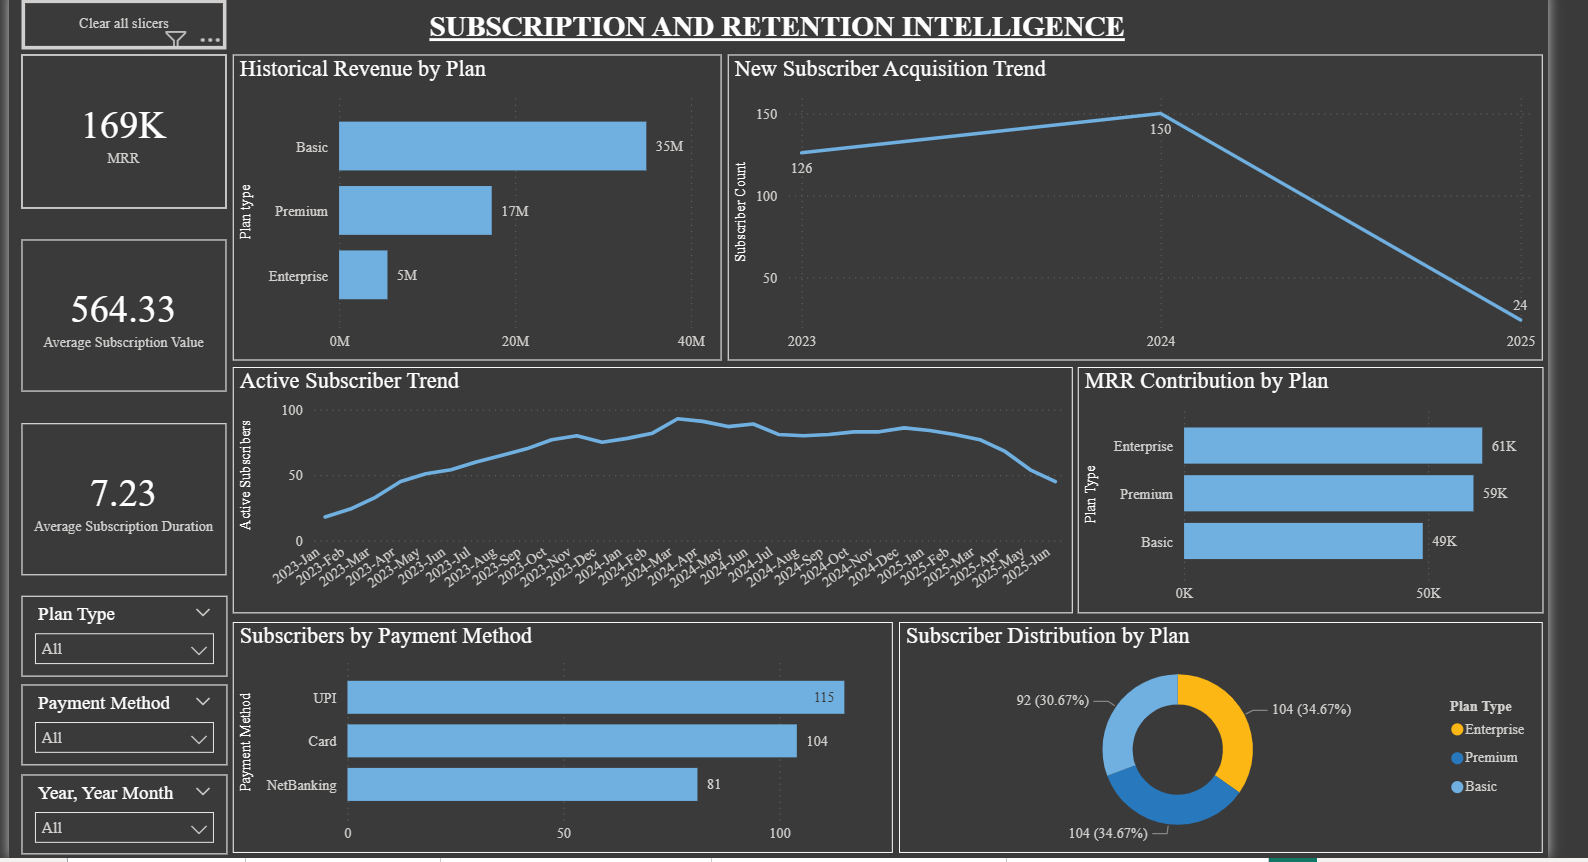

The dashboard page shown, as its layout file describes it:
{"tool":"powerbi","page":{"name":"Subscription and Retention Analysis","canvas":[1280,720],"ordinal":3},"visuals":[{"type":"textbox","box":[10.4,10.4,1256.5,42.6],"z":0},{"type":"card","fields":{"Values":["KPI Measures.MRR"]},"box":[10.4,52,170.4,127.8],"z":1000},{"type":"card","fields":{"Values":["Avg(subscriptions.monthly_fee)"]},"box":[10.4,205.8,170.4,126.8],"z":2000},{"type":"barChart","title":"Historical Revenue by Plan","fields":{"Category":["customers.plan_type"],"Y":["KPI Measures.Total Revenue"]},"box":[185.9,52.4,406.8,254.6],"z":3000},{"type":"card","fields":{"Values":["subscriptions.Subscription Duration"]},"box":[10.4,358.5,170.4,126.8],"z":4000},{"type":"lineChart","title":"Active Subscriber Trend","fields":{"Category":["Dim_Date.Year Month"],"Y":["subscriptions.Active Subscribers Monthly"]},"box":[185.9,312,698.8,204.6],"z":5000},{"type":"lineChart","title":"New Subscriber Acquisition Trend","fields":{"Category":["subscriptions.start_date.Variation.Date Hierarchy.Year","subscriptions.start_date.Variation.Date Hierarchy.Quarter","subscriptions.start_date.Variation.Date Hierarchy.Month","subscriptions.start_date.Variation.Date Hierarchy.Day"],"Y":["Count(subscriptions.sub_id)"]},"box":[597.7,52.4,677.6,254.6],"z":6000},{"type":"barChart","title":"MRR Contribution by Plan","fields":{"Category":["subscriptions.plan_name"],"Y":["KPI Measures.MRR"]},"box":[888.4,312,386.8,204.6],"z":7000},{"type":"donutChart","title":"Subscriber Distribution by Plan","fields":{"Category":["subscriptions.plan_name"],"Y":["Count(subscriptions.sub_id)"]},"box":[740,524.1,535.3,192.2],"z":8000},{"type":"barChart","title":"Subscribers by Payment Method","fields":{"Category":["subscriptions.payment_method"],"Y":["Count(subscriptions.sub_id)"]},"box":[185.9,524.1,549,192.2],"z":9000},{"type":"slicer","fields":{"Values":["subscriptions.plan_name"]},"box":[10,501.6,171,67.4],"z":10000},{"type":"slicer","fields":{"Values":["subscriptions.payment_method"]},"box":[10,575.2,171,67.4],"z":11000},{"type":"slicer","fields":{"Values":["Dim_Date.Year","Dim_Date.Year Month"]},"box":[10,650.1,171,66.1],"z":12000},{"type":"actionButton","box":[10.4,6.2,170.4,41.6],"z":13000}]}

Visuals, with their boxes in screenshot pixels (x1, y1, x2, y2):
textbox: pyautogui.locateOnScreen(13, 0, 1547, 40)
card - KPI Measures.MRR: pyautogui.locateOnScreen(13, 39, 221, 195)
card - Avg(subscriptions.monthly_fee): pyautogui.locateOnScreen(13, 227, 221, 381)
"Historical Revenue by Plan" barChart: pyautogui.locateOnScreen(227, 39, 724, 350)
card - subscriptions.Subscription Duration: pyautogui.locateOnScreen(13, 413, 221, 568)
"Active Subscriber Trend" lineChart: pyautogui.locateOnScreen(227, 356, 1081, 606)
"New Subscriber Acquisition Trend" lineChart: pyautogui.locateOnScreen(730, 39, 1558, 350)
"MRR Contribution by Plan" barChart: pyautogui.locateOnScreen(1085, 356, 1558, 606)
"Subscriber Distribution by Plan" donutChart: pyautogui.locateOnScreen(904, 615, 1558, 850)
"Subscribers by Payment Method" barChart: pyautogui.locateOnScreen(227, 615, 898, 850)
slicer - subscriptions.plan_name: pyautogui.locateOnScreen(12, 588, 221, 670)
slicer - subscriptions.payment_method: pyautogui.locateOnScreen(12, 678, 221, 760)
slicer - Dim_Date.Year x Dim_Date.Year Month: pyautogui.locateOnScreen(12, 769, 221, 850)
actionButton: pyautogui.locateOnScreen(13, 0, 221, 34)
